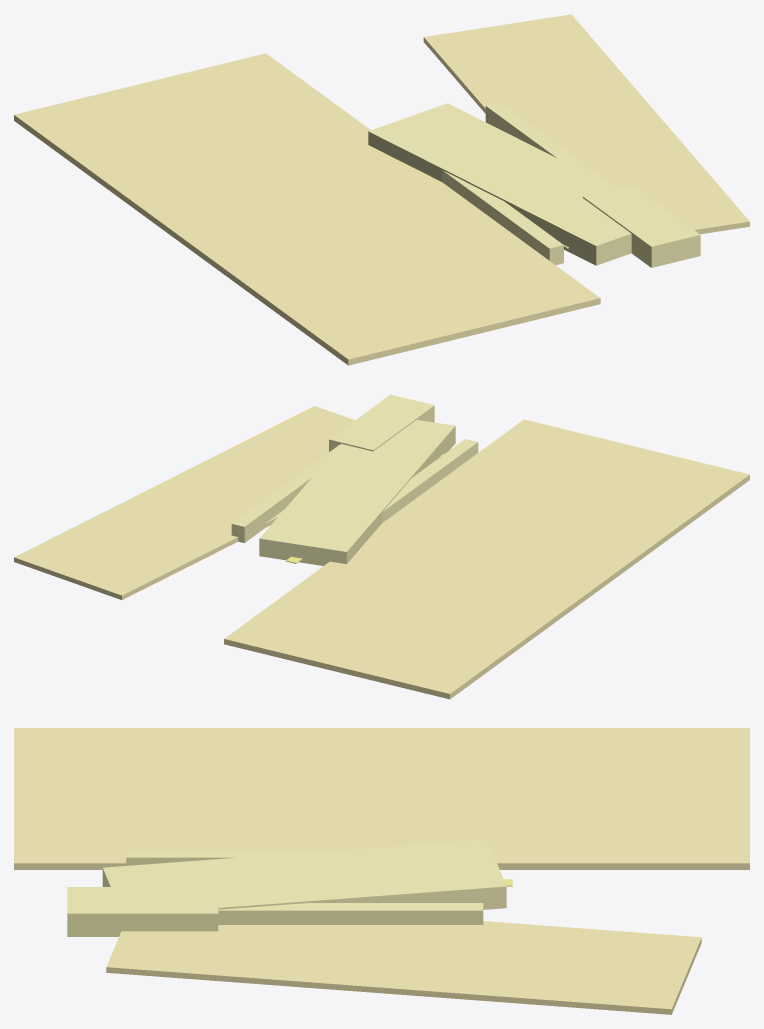
File: road_separator_island_offset_refuge.glb
The picture shows the model from 3 angles, top to bottom: view 1: azimuth 30°, elevation 25°; view 2: azimuth 150°, elevation 25°; view 3: azimuth 270°, elevation 25°; orthographic projection. The views are drawn at different scales.
Parts seen in each view (by area): view 1: through_lane, slip_lane, refuge_island, refuge_nose, curb_left, curb_right; view 2: through_lane, slip_lane, refuge_island, refuge_nose, curb_right, curb_left; view 3: through_lane, slip_lane, refuge_island, refuge_nose, curb_right, curb_left.
Part boxes in pixels (x1,y1,x2,y2): through_lane: (14, 53, 600, 365); slip_lane: (423, 14, 749, 234); refuge_island: (368, 103, 631, 265); refuge_nose: (583, 184, 700, 267); curb_left: (442, 170, 563, 264); curb_right: (485, 102, 617, 188); through_lane: (224, 419, 749, 699); slip_lane: (14, 406, 354, 599); refuge_island: (259, 420, 455, 565); refuge_nose: (329, 394, 434, 451); curb_right: (231, 444, 339, 542); curb_left: (382, 439, 478, 522); through_lane: (14, 728, 749, 869); slip_lane: (106, 921, 701, 1014); refuge_island: (102, 839, 506, 909); refuge_nose: (67, 887, 218, 936); curb_right: (218, 903, 483, 924); curb_left: (126, 850, 337, 865).
Bounding box in the file's own units: 3.6 × 0.14 × 4.
